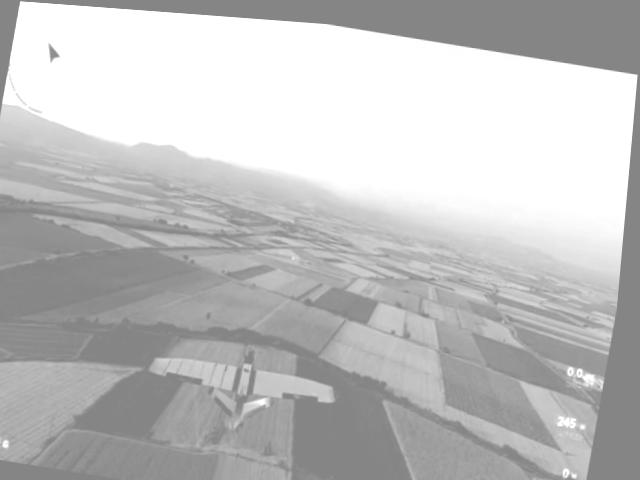hedef: (138, 323, 362, 459)
